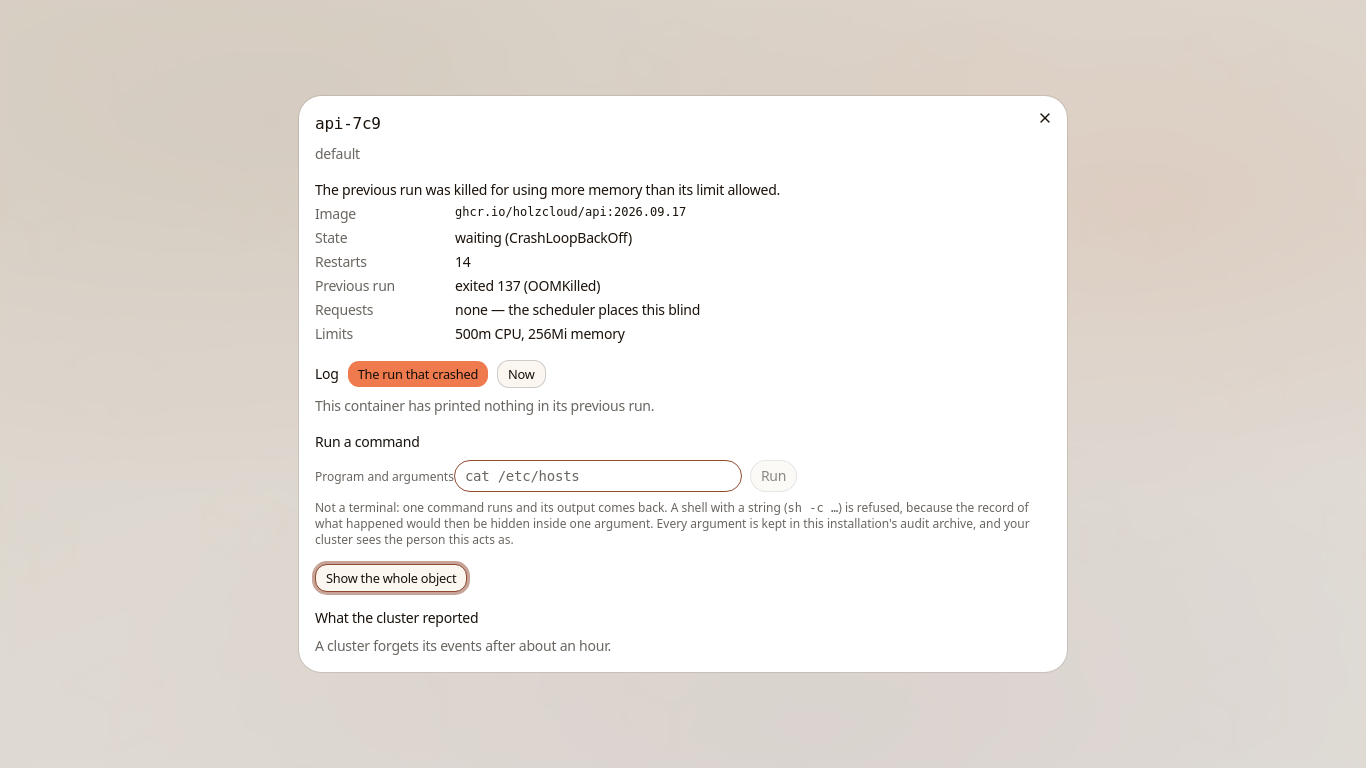
Test: diagnosing a pod › fetches the whole object only when it is asked for
Expected: the text "The previous run was killed for using more memory than its limit allowed." is shown, [315,180,780,199]
Click the button "Show the whole object".
click(391, 578)  # box [315,564,467,592]
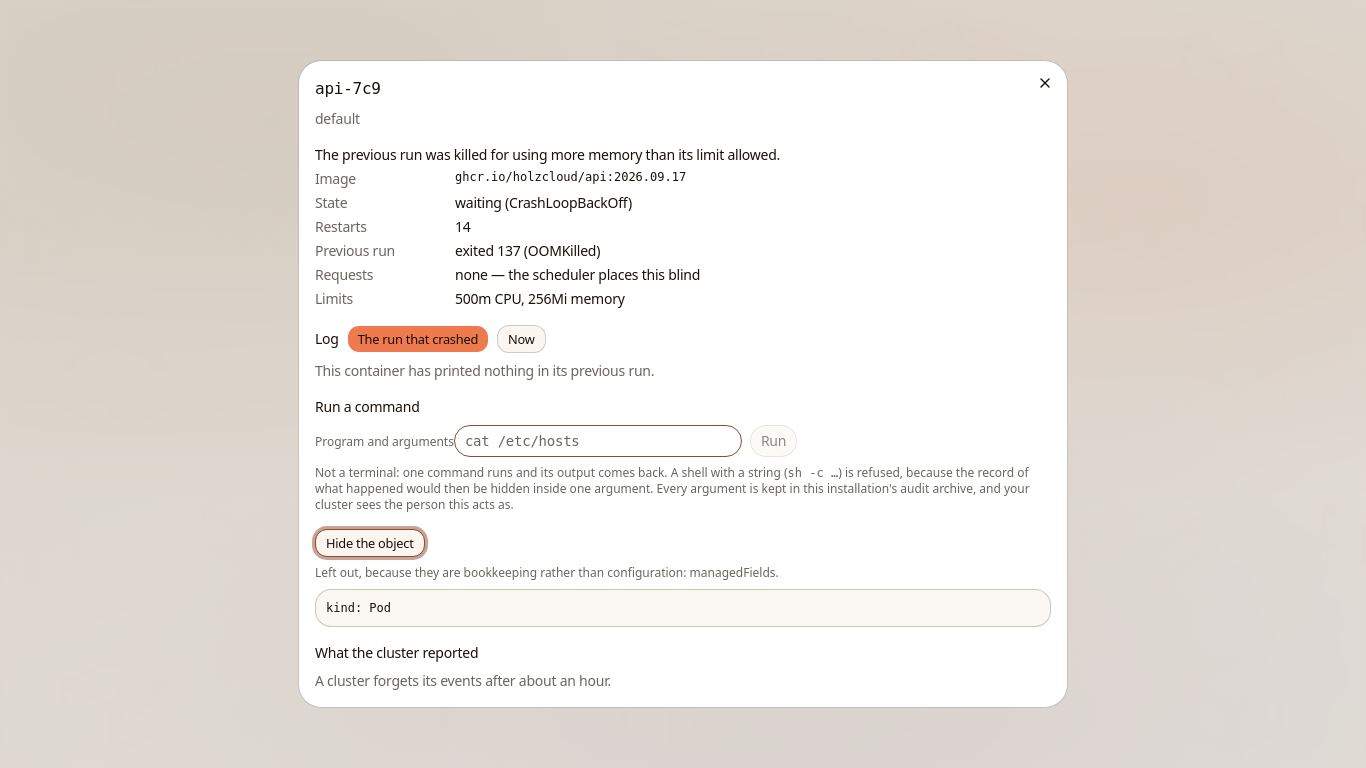
Now the text "bookkeeping rather than configuration" is shown, box [315,564,779,581]
